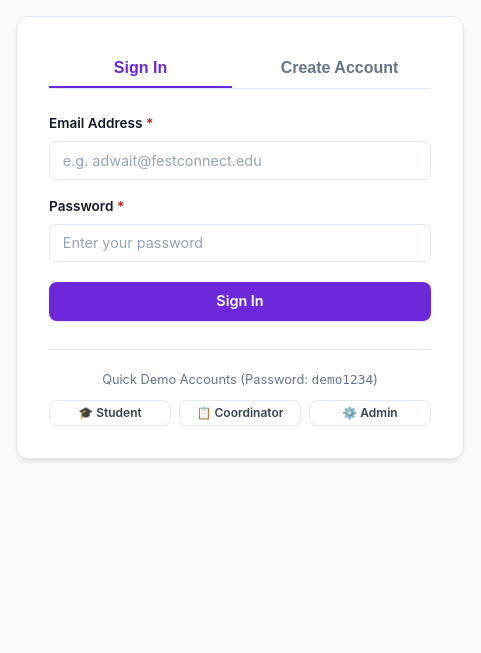
Test: Phase 08 — Dedicated React Screens & Dashboards › renders AuthScreen with tabs for Login and Sign Up with validation
This screenshot has width=481, height=653.
Expected: the 1st button "Sign In" is shown, x1=49 y1=49 x2=232 y2=88
Expected: the button "Create Account" is shown, x1=248 y1=49 x2=431 y2=88
Click quick login for student
Click the button "🎓 Student".
click(110, 413)  # box x1=49 y1=400 x2=171 y2=426
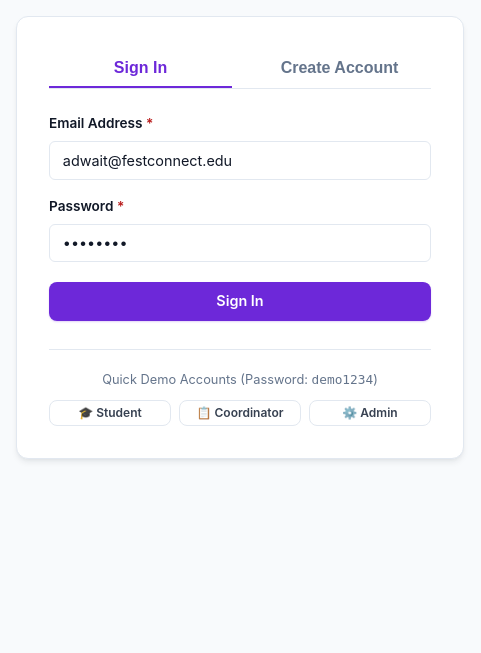
Switch to Create Account tab
Click the button "Create Account".
click(340, 69)  # box x1=248 y1=49 x2=431 y2=88
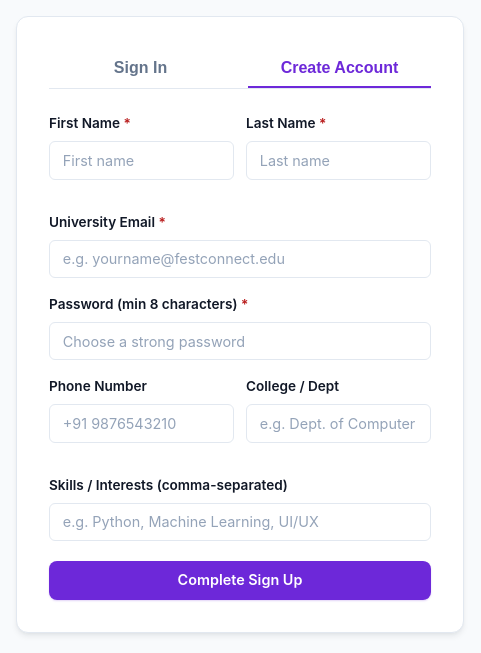
Now the field labelled "First Name *" is shown, box x1=49 y1=141 x2=234 y2=180
Now the field labelled "Last Name *" is shown, box x1=246 y1=141 x2=431 y2=180
Now the field labelled "University Email *" is shown, box x1=49 y1=240 x2=431 y2=278
